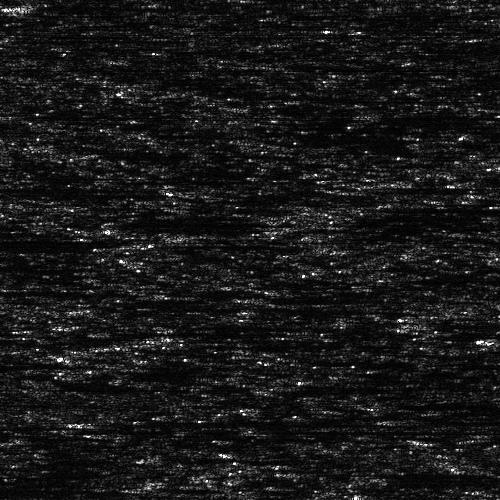object: (438, 329, 500, 346), (42, 418, 115, 423), (362, 416, 425, 421), (0, 34, 44, 41), (253, 295, 284, 302), (36, 2, 67, 7), (161, 241, 192, 246), (335, 187, 376, 190), (258, 428, 279, 433)
shadow: (78, 418, 500, 423), (2, 34, 169, 41), (0, 479, 44, 500), (0, 186, 132, 193), (0, 287, 97, 296), (177, 241, 345, 246), (51, 2, 214, 7), (269, 295, 354, 302), (394, 416, 500, 421), (269, 428, 352, 433), (356, 187, 443, 190), (491, 329, 500, 346)
